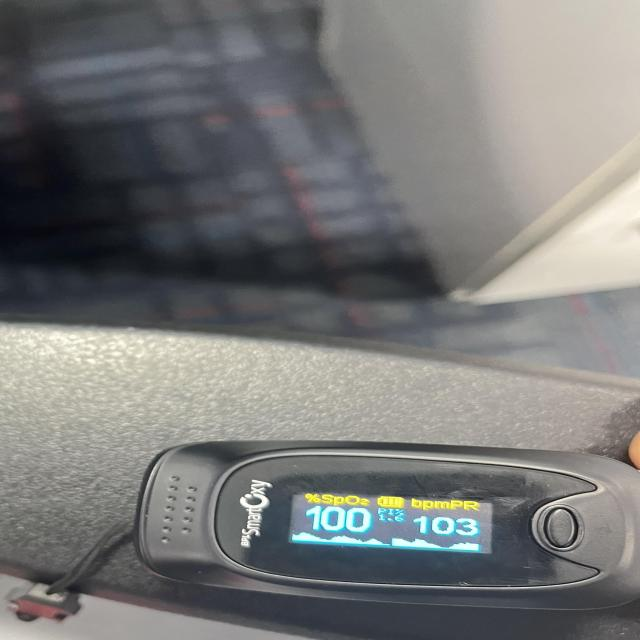spo2: (128, 441, 640, 615)
